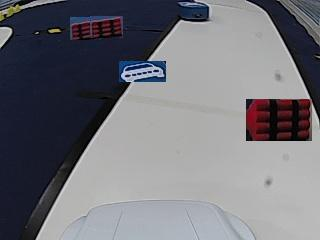prop: (179, 3, 208, 21)
